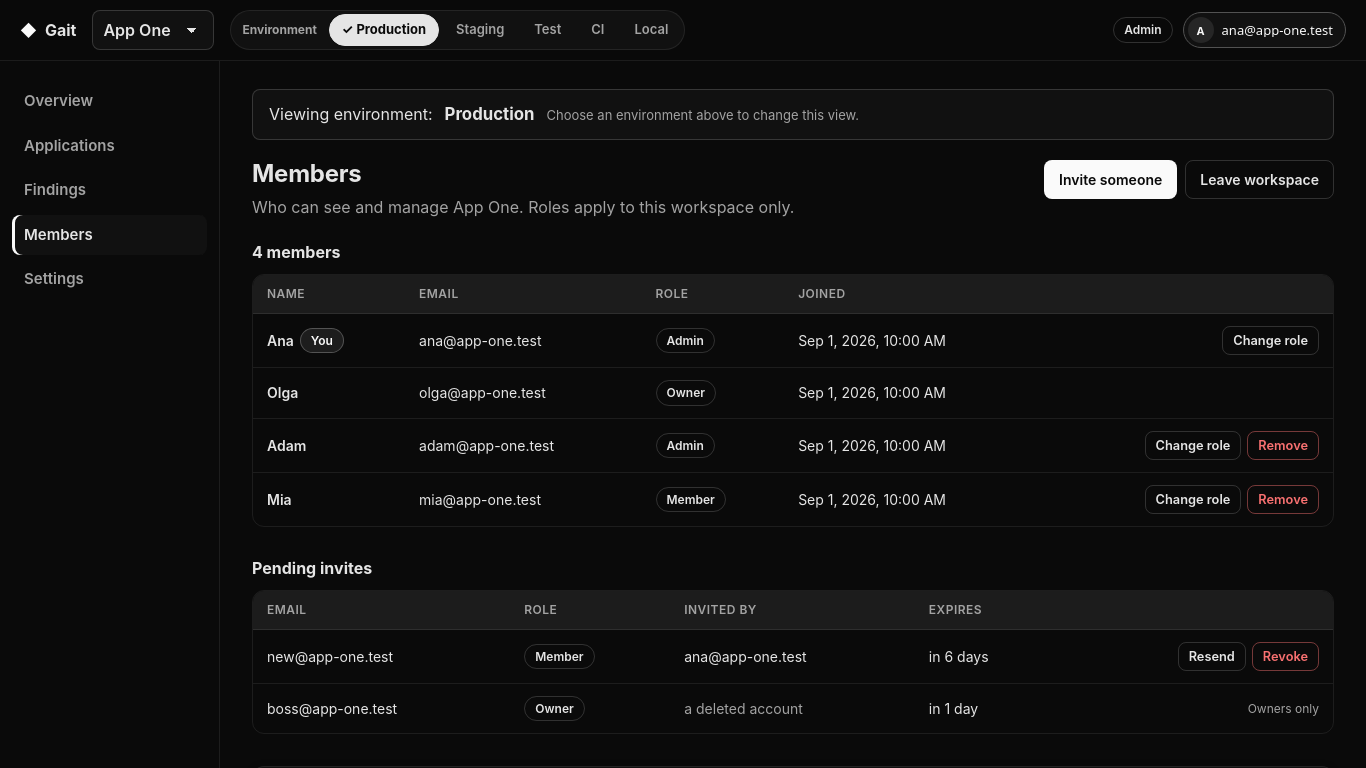
Test: F4 invites › Gait refusing an Owner invite from an Admin is shown in plain words
Click the button "Invite someone" at (1111, 180), box [1044,160,1177,199]
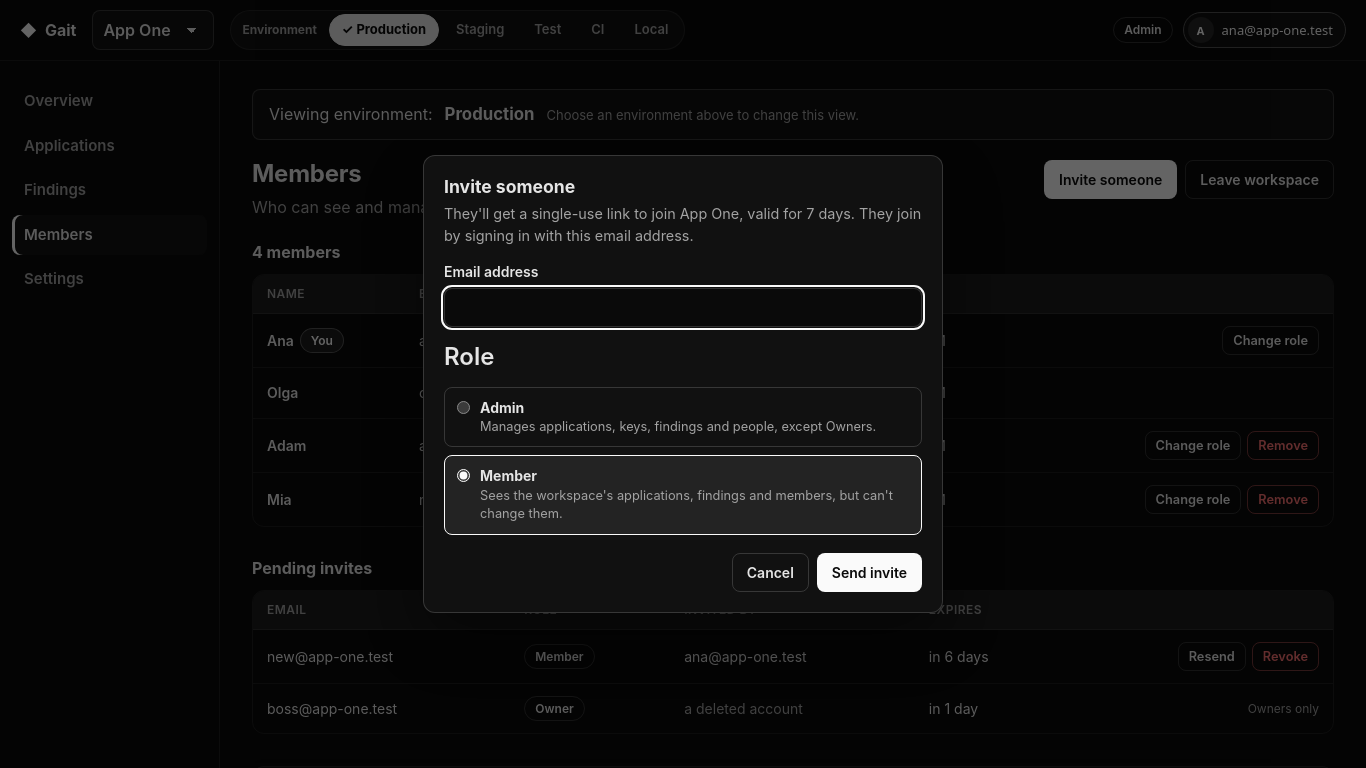
Type "sam@app-one.test" into the field labelled "Email address" at (683, 307), box [444,288,922,326]
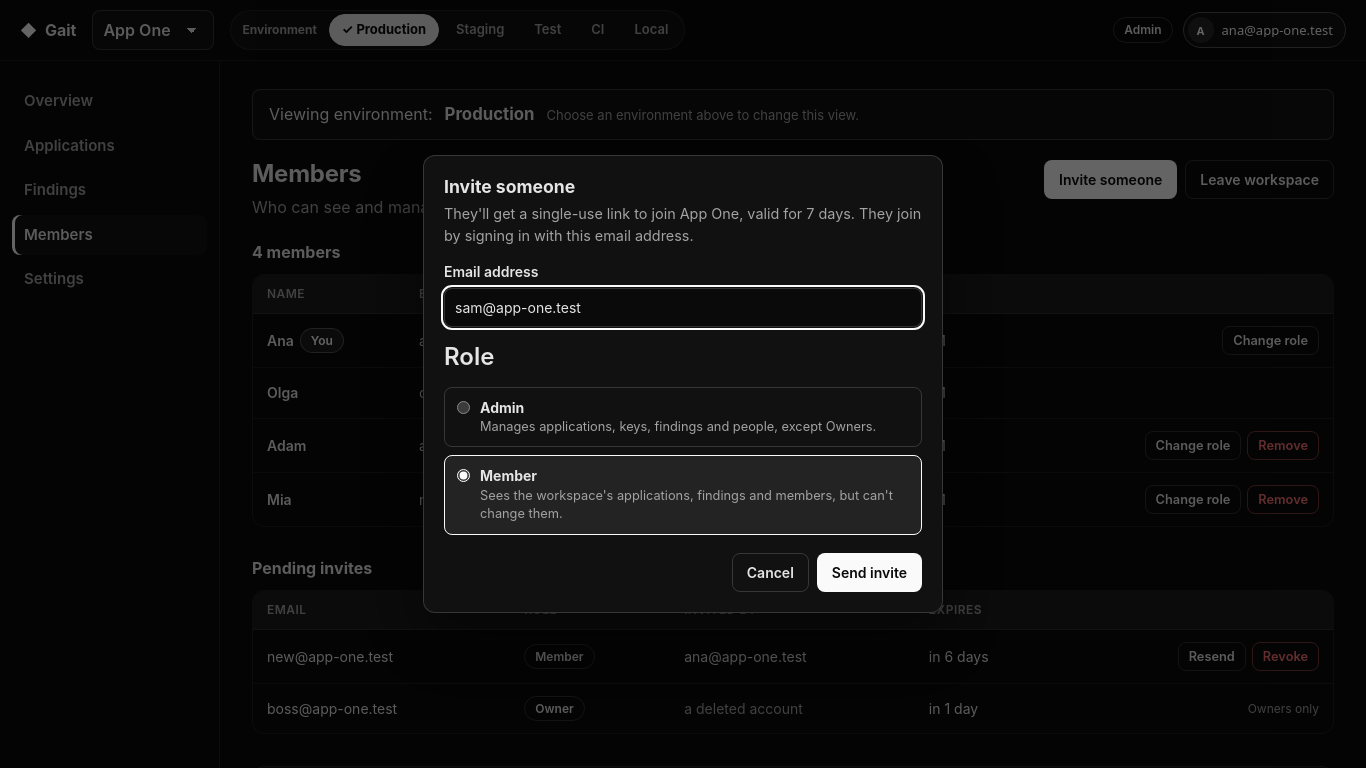
Click the button "Send invite" at (869, 572), box [817,553,922,592]
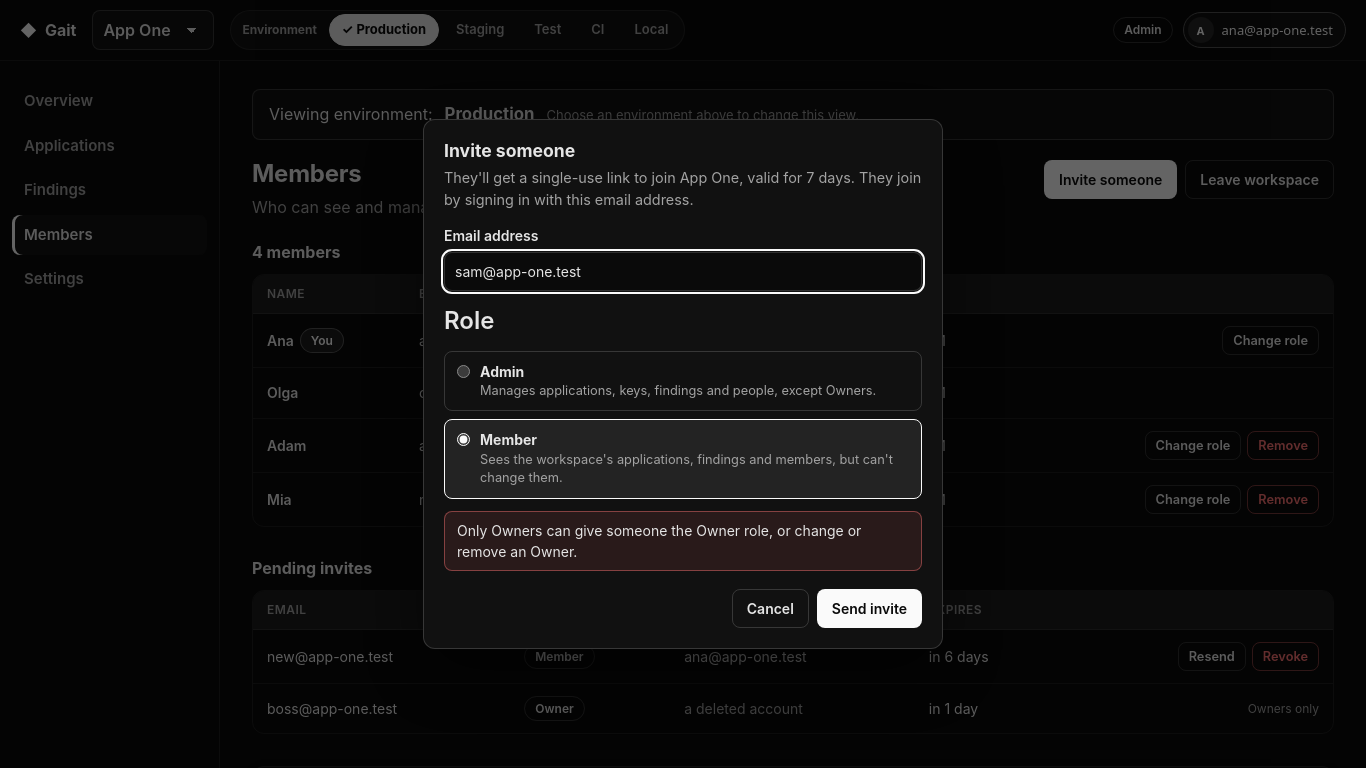
Expected: the message shows "Only Owners can give someone the Owner role", [457,522,861,560]
